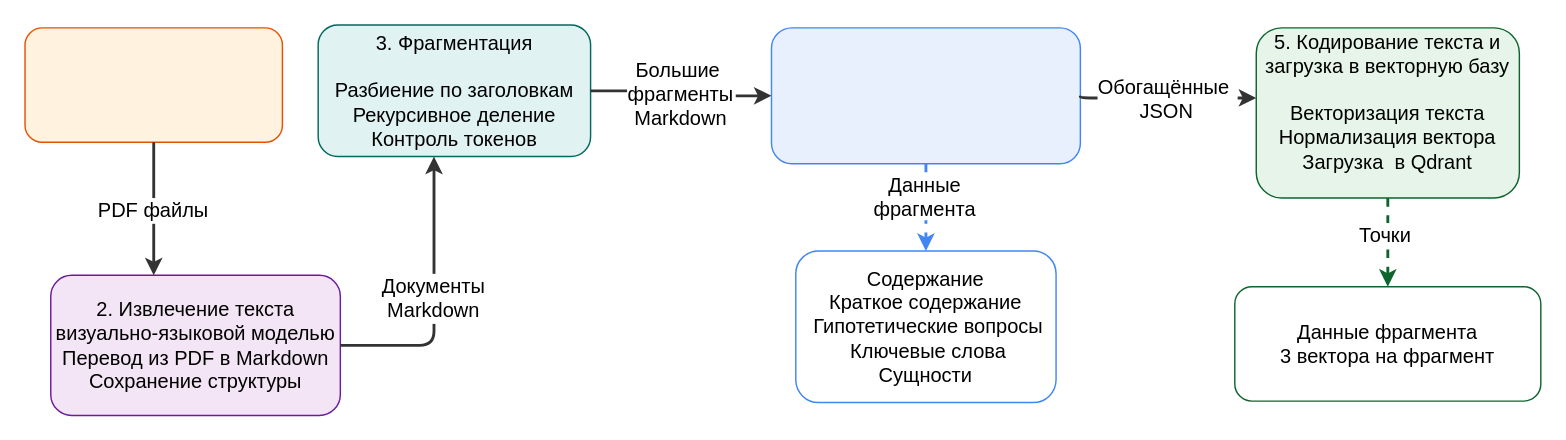
The diagram is 1566 pixels wide and 440 high, and some of its shapes have lost their labels. The centre of each missing label's shape, as x and y in pixels:
"1. Руководящие документы 22 PDF-документа" goes at (x=153, y=84).
"4. Обогащение с помощью БЯМ Формирование целостных обогащенных фрагментов" goes at (x=925, y=95).
